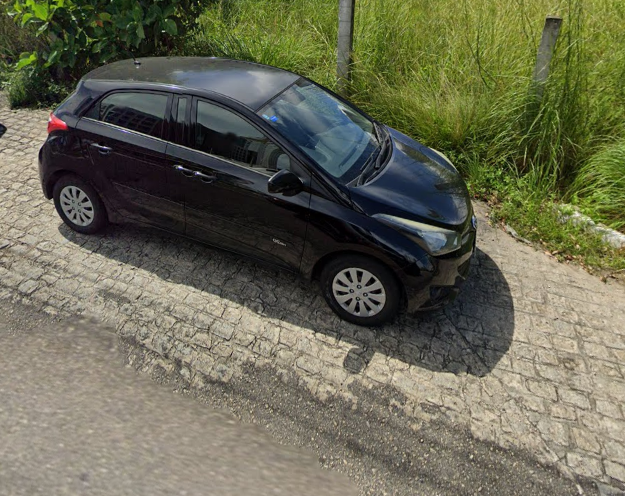car: (36, 40, 482, 329)
